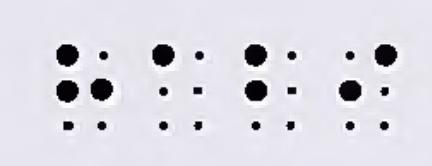letter_a: (153, 45, 204, 132)
letter_b: (244, 44, 300, 130)
letter_h: (56, 43, 113, 132)
letter_i: (337, 45, 398, 132)
